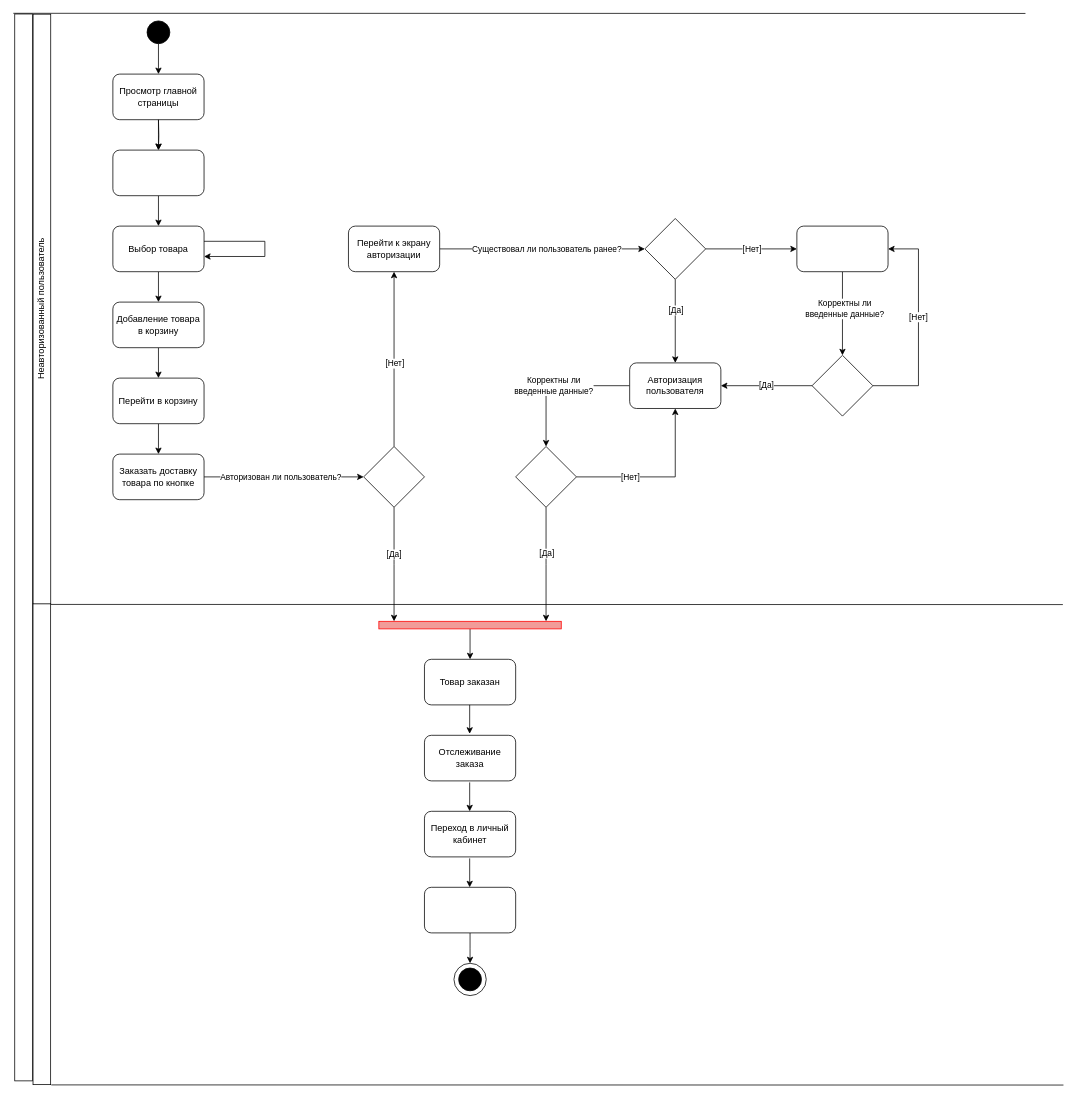
Image size: 1078x1100. Some labels were removed from this diagram. Here are the shapes that lost their labels. From the top down, the box of each, then its label:
(112, 149, 204, 196): Переход к категории
(796, 225, 888, 272): Регистрация пользователя
(14, 13, 32, 1081): Сервис доставки еды
(32, 603, 51, 1085): Авторизованный пользователь
(424, 887, 516, 933): Выход из системы
